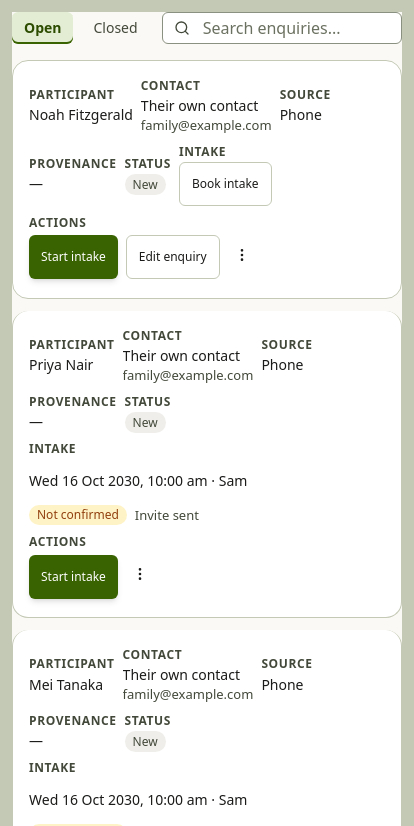
Scenario: when a colleague changed the visit › the table's Mark confirmed says why it was refused
Click the button named "More actions for Priya Nair": (148, 574) [126, 552, 170, 596]
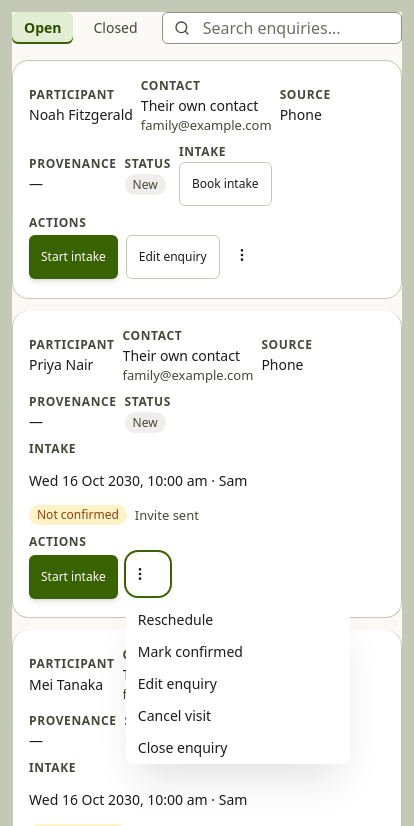
Click the option "Mark confirmed": (190, 652) [138, 642, 243, 661]
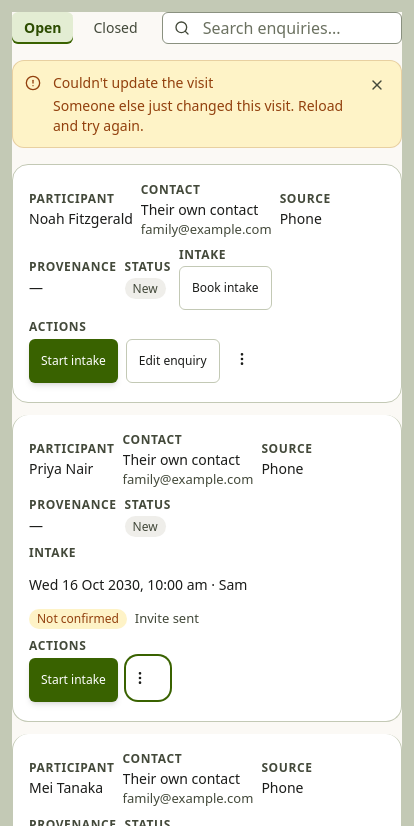
Now the text "Someone else just changed this visit. Reload and try again." is shown, box [53, 96, 343, 135]
